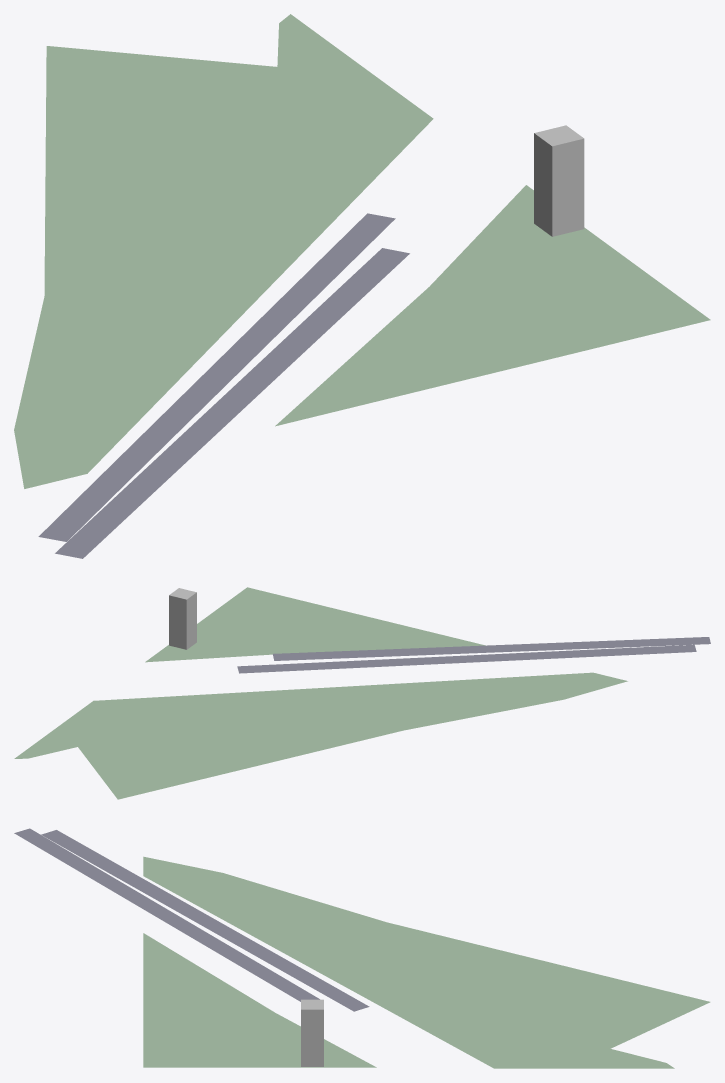
The model's file is 102_86_mid.glb.
3 views of the same model, one above another, from view 1: azimuth 30°, elevation 25°; view 2: azimuth 150°, elevation 25°; view 3: azimuth 270°, elevation 25° (orthographic). The views are drawn at different scales.
Size of the model in its own units: 292 by 34.53 by 374.
